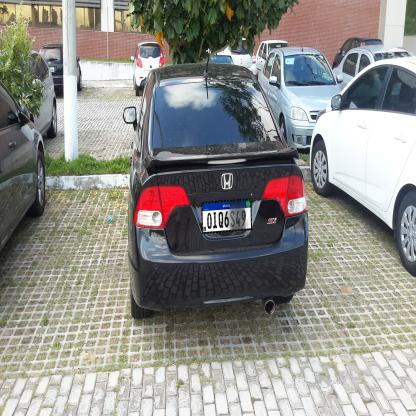PlacaM: (201, 198, 252, 234)
